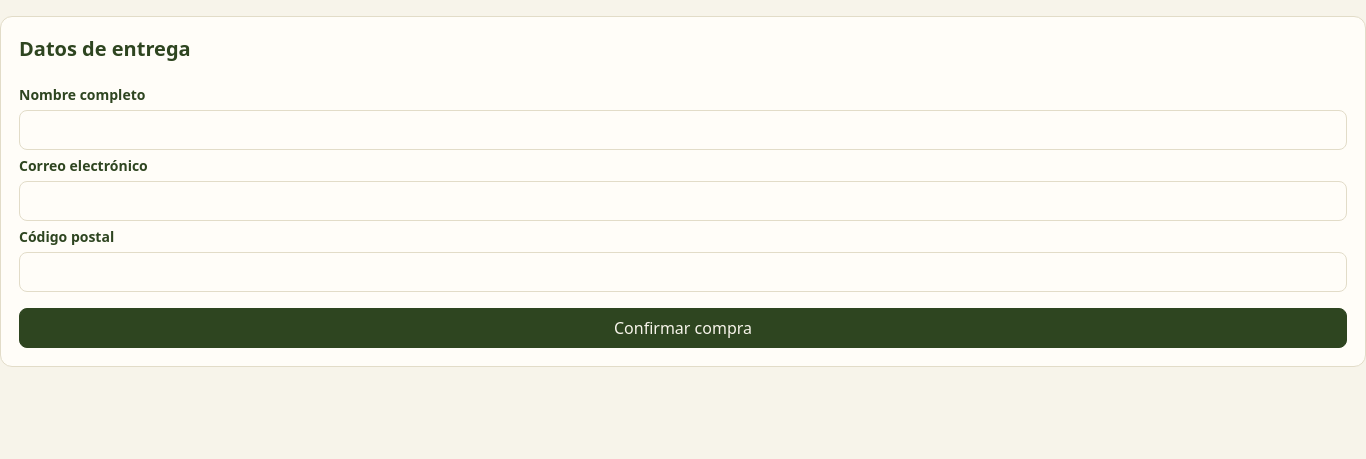
Test: FormularioCheckout › al enviar vacío muestra los tres errores y no confirma
The image size is (1366, 459).
Click the button "Confirmar compra". click: (683, 328)
box: top-left (19, 308), bottom-right (1347, 348)
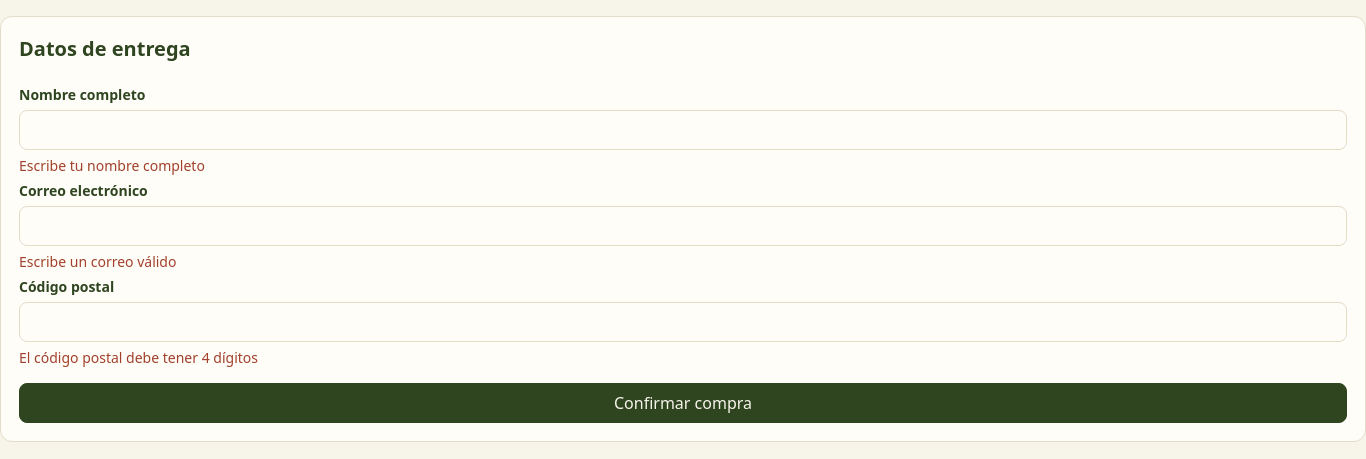
Result: the number of messages is 3 at top-left (19, 156), bottom-right (205, 175); top-left (19, 252), bottom-right (176, 271); top-left (19, 348), bottom-right (258, 367)
